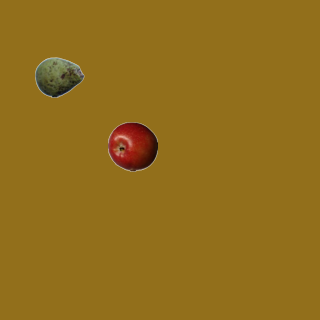Apple Braeburn: (107, 121, 157, 171)
Pear Stone: (34, 52, 84, 102)
